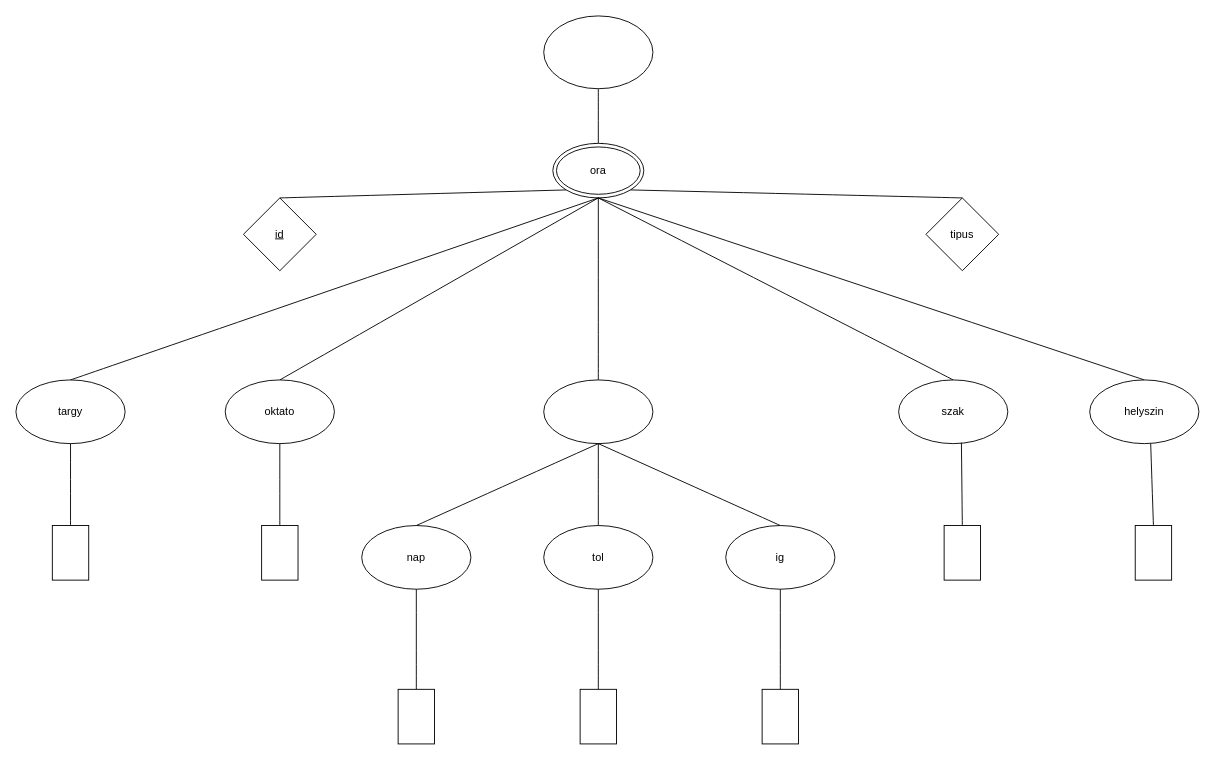
The diagram is 1215 pixels wide and 760 high, and some of its shapes have lost their labels. The shapes that lost their labels are listed below. From the top down, each one's box as (x1, y1, x2, y2) in pixels, then its label:
(543, 15, 653, 89): ZVPGTZ_orarend
(543, 379, 653, 444): idopont
